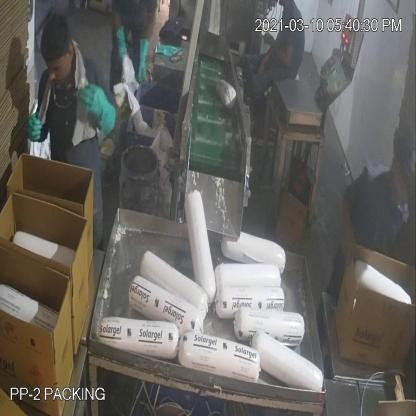glove: (76, 68, 117, 142), (138, 31, 149, 90), (114, 28, 132, 63)
no_glove: (340, 179, 362, 281), (265, 26, 298, 74)
